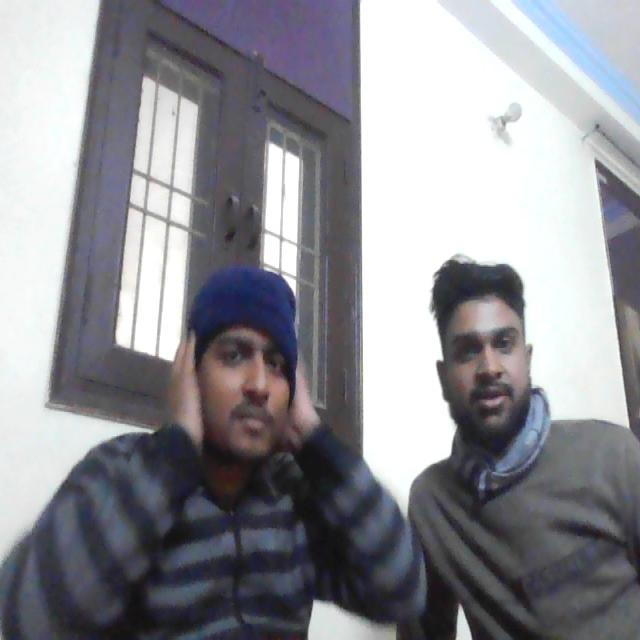real: (183, 248, 304, 476), (436, 252, 538, 444)
